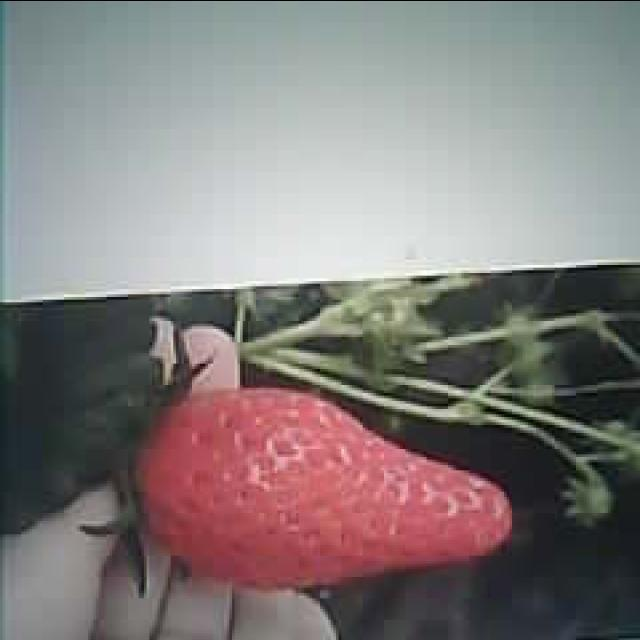strawberry: (130, 384, 512, 582)
